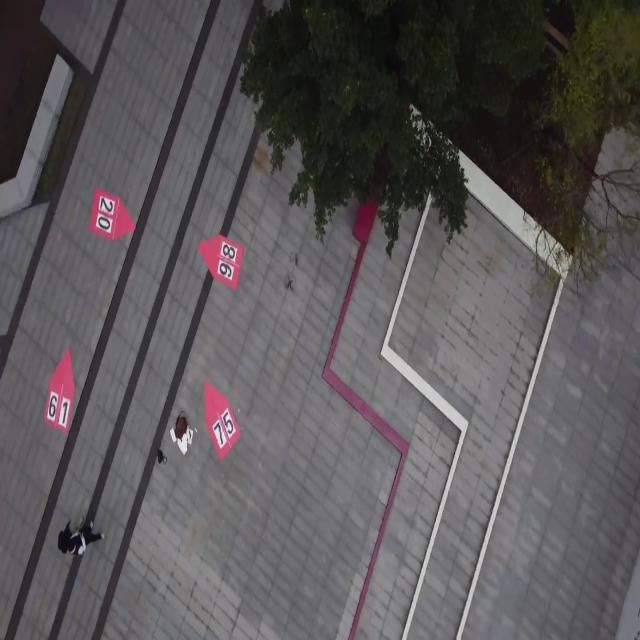-sign-: (203, 381, 240, 463), (198, 233, 244, 292), (45, 349, 75, 437), (91, 188, 136, 242)
